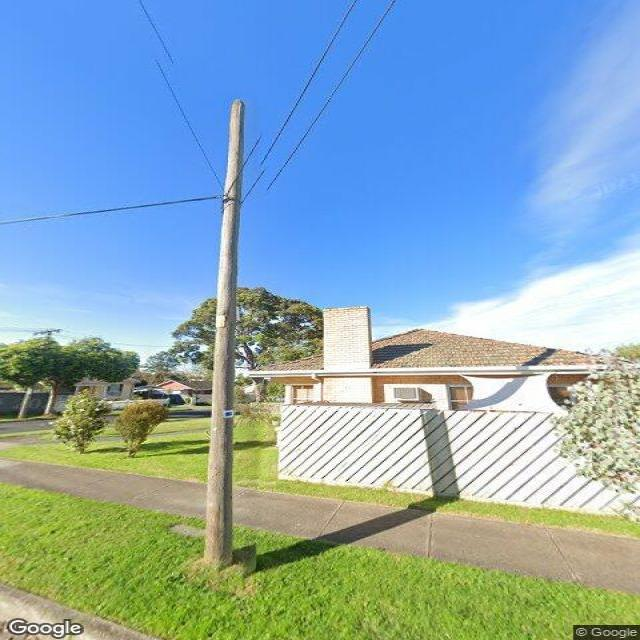timber-pole: (202, 99, 248, 568)
